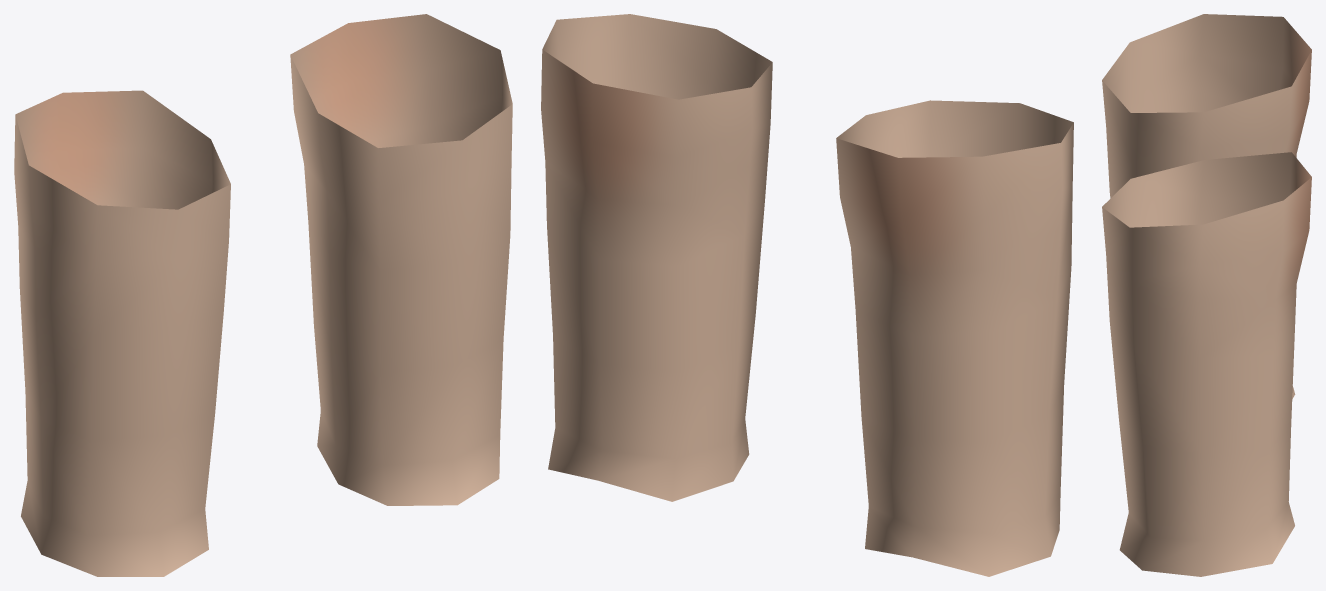
File: Body_LegA_2.fbx
3 views of the same model, side by side, from view 1: azimuth 30°, elevation 25°; view 2: azimuth 150°, elevation 25°; view 3: azimuth 270°, elevation 25° (orthographic). The views are drawn at different scales.
Parts seen in each view (by area): view 1: Body_LegA_2; view 2: Body_LegA_2; view 3: Body_LegA_2.
Part boxes in pixels (bbox=[...]): Body_LegA_2: bbox=[14, 14, 512, 576]; Body_LegA_2: bbox=[541, 14, 1073, 576]; Body_LegA_2: bbox=[1102, 14, 1311, 576].
Bounding box in the file's own units: 32.55 × 27.12 × 13.72.
